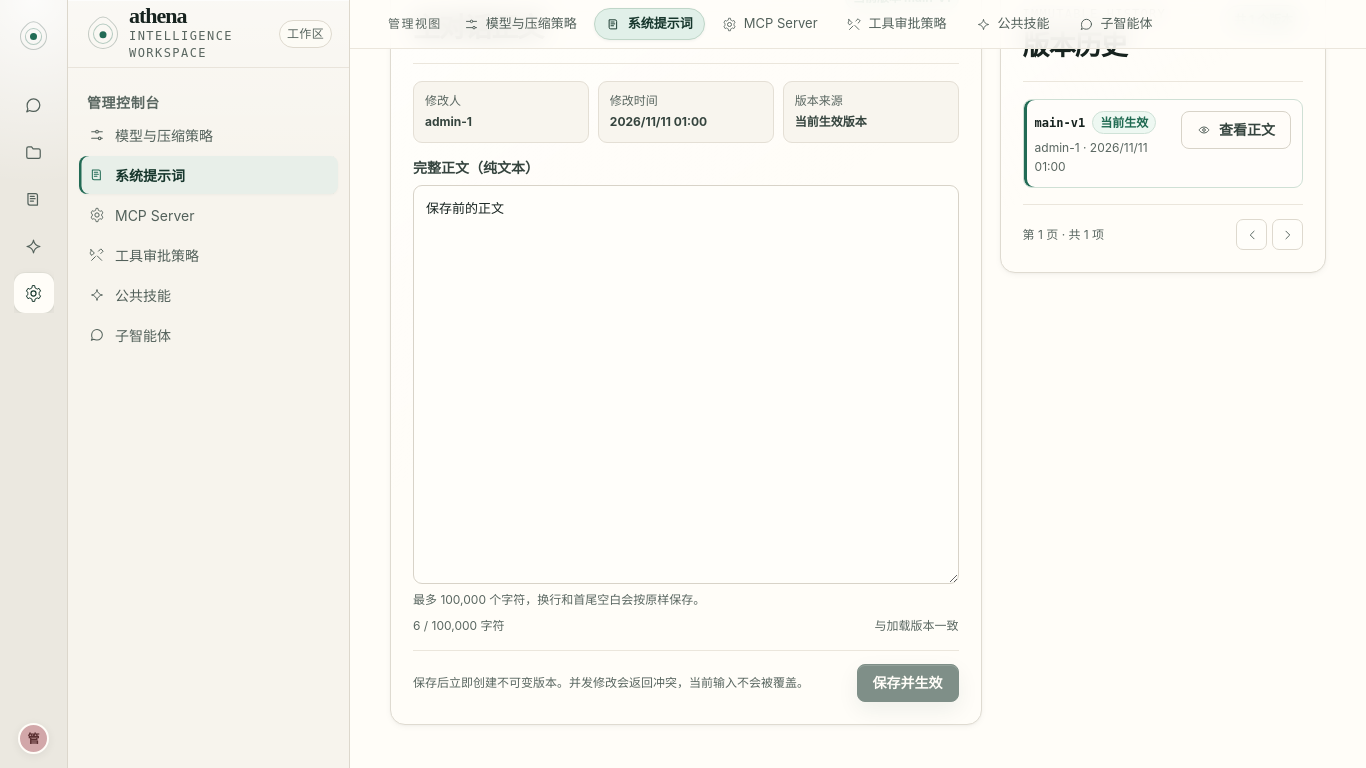
管理员系统提示词页 › 离开弹窗打开后保存成功，保持不可撤销的成功语义
Later steps or results of the test are not shown.
(page scrolled)
Replace the text in the text box labelled "完整正文（纯文本） 最多 100,000 个字符，换行和首尾空白会按原样保存。" with "延迟生效的正文" at {"x": 686, "y": 384}, box x1=413 y1=185 x2=959 y2=584
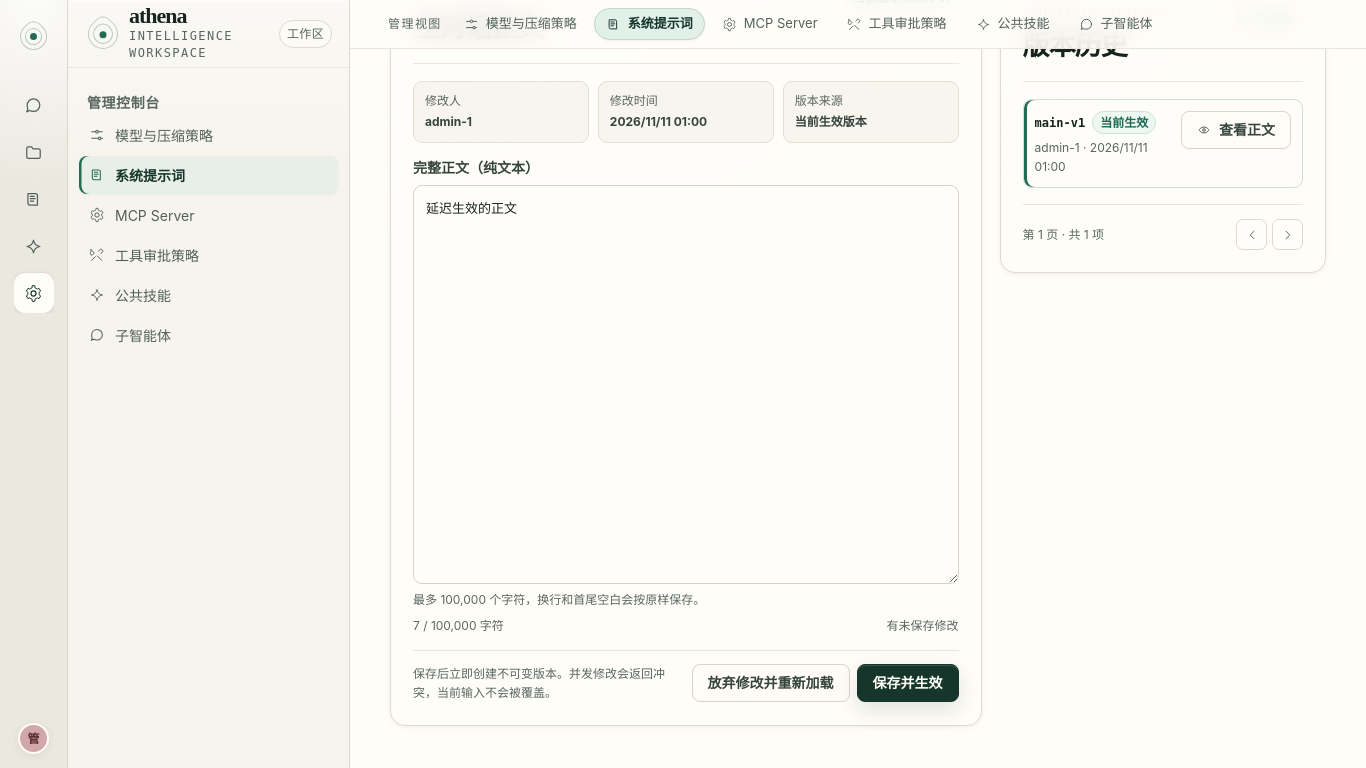
Click the button "保存并生效" at {"x": 908, "y": 684}, box x1=857 y1=664 x2=959 y2=702
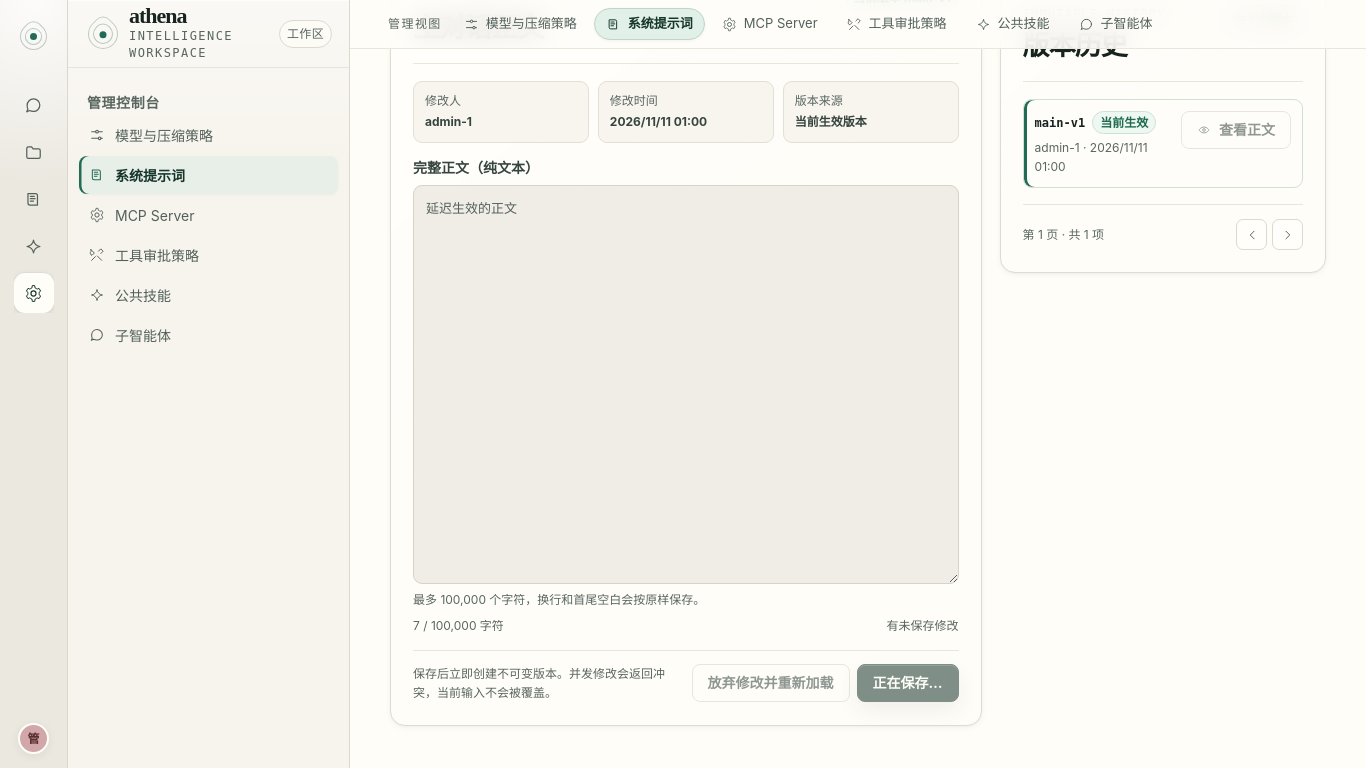
Result: the button "正在保存…" is disabled at x1=857 y1=664 x2=959 y2=702
Click the button named "账户菜单" at {"x": 34, "y": 738}, box x1=18 y1=723 x2=49 y2=754
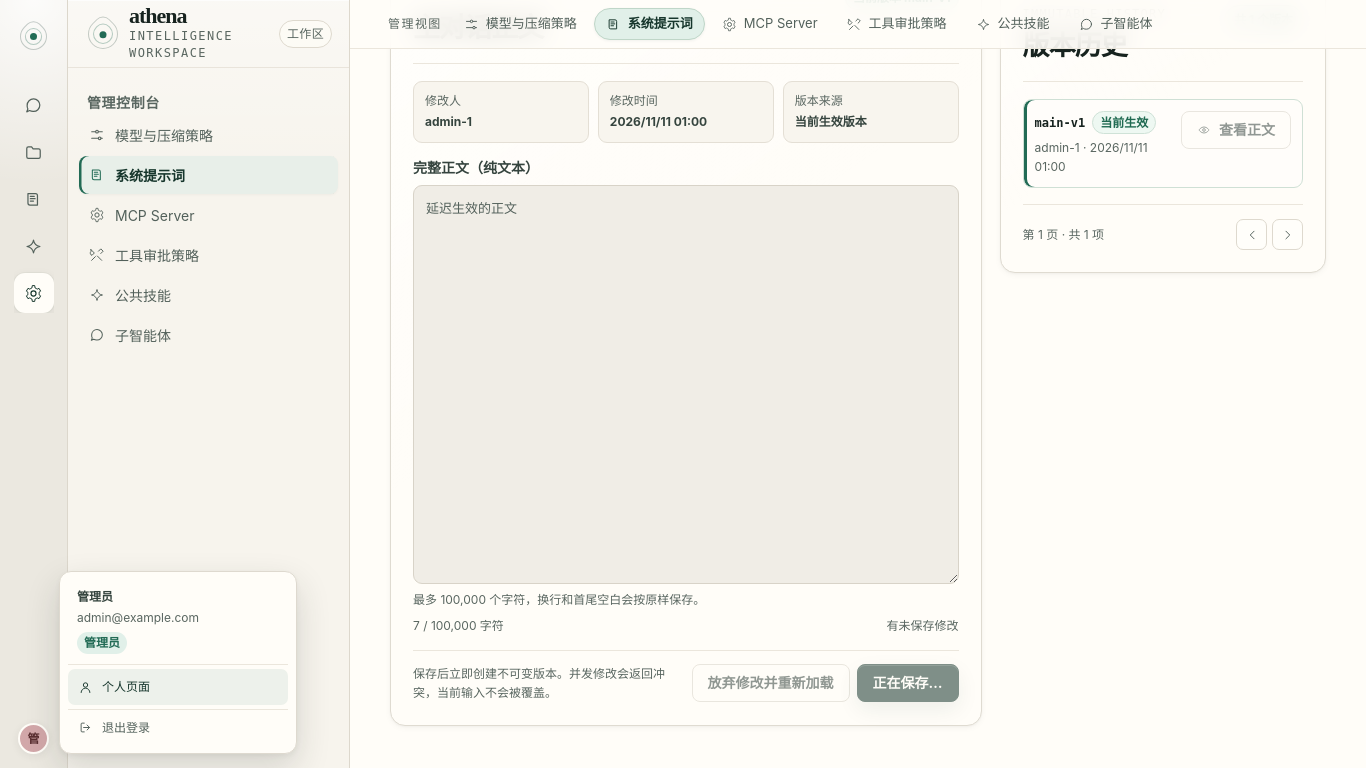
Click the menu item "个人页面" at {"x": 178, "y": 687}, box x1=68 y1=669 x2=288 y2=705
(page scrolled)
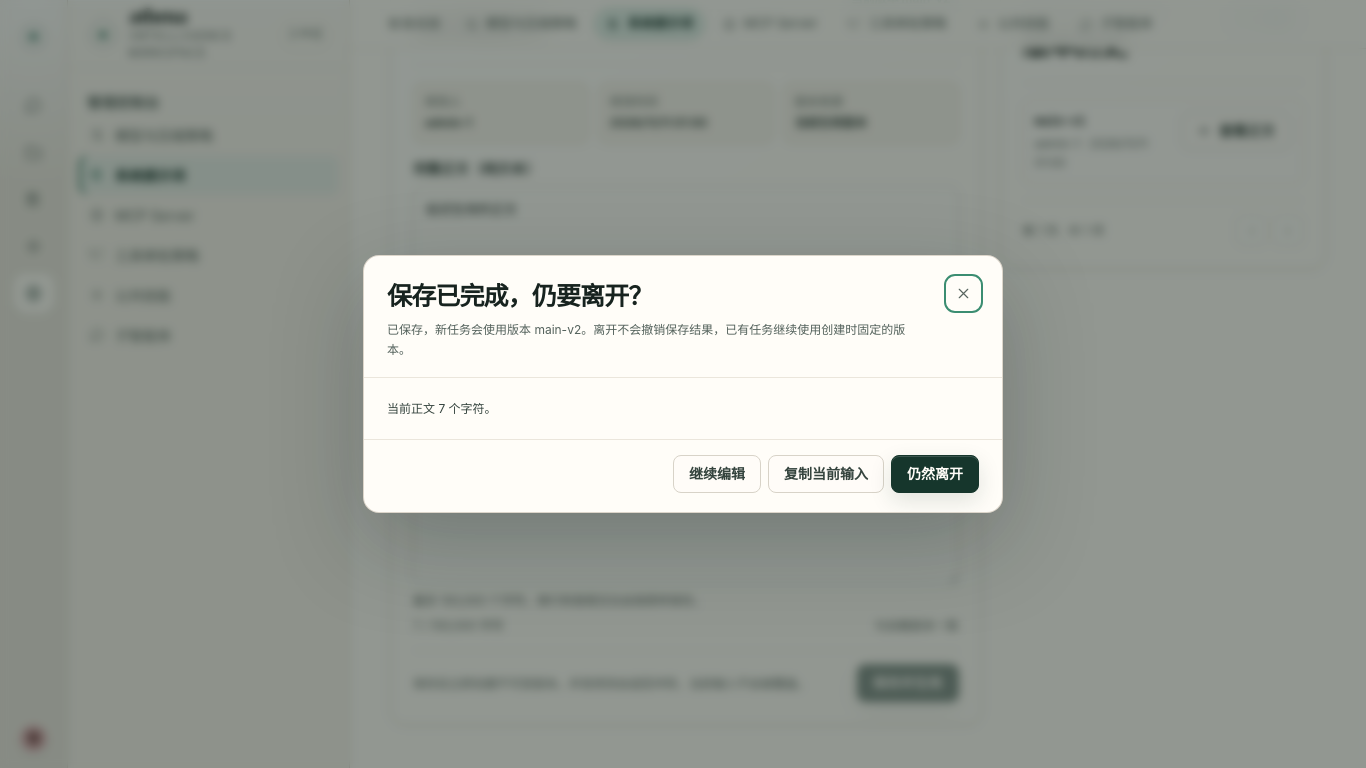
Result: the button named "留在此页" is shown at x1=673 y1=455 x2=761 y2=493
Result: the heading "保存已完成，仍要离开？" is shown at x1=387 y1=283 x2=652 y2=310
Click the button "仍然离开" at {"x": 935, "y": 474}, box x1=891 y1=455 x2=979 y2=493
(page scrolled)
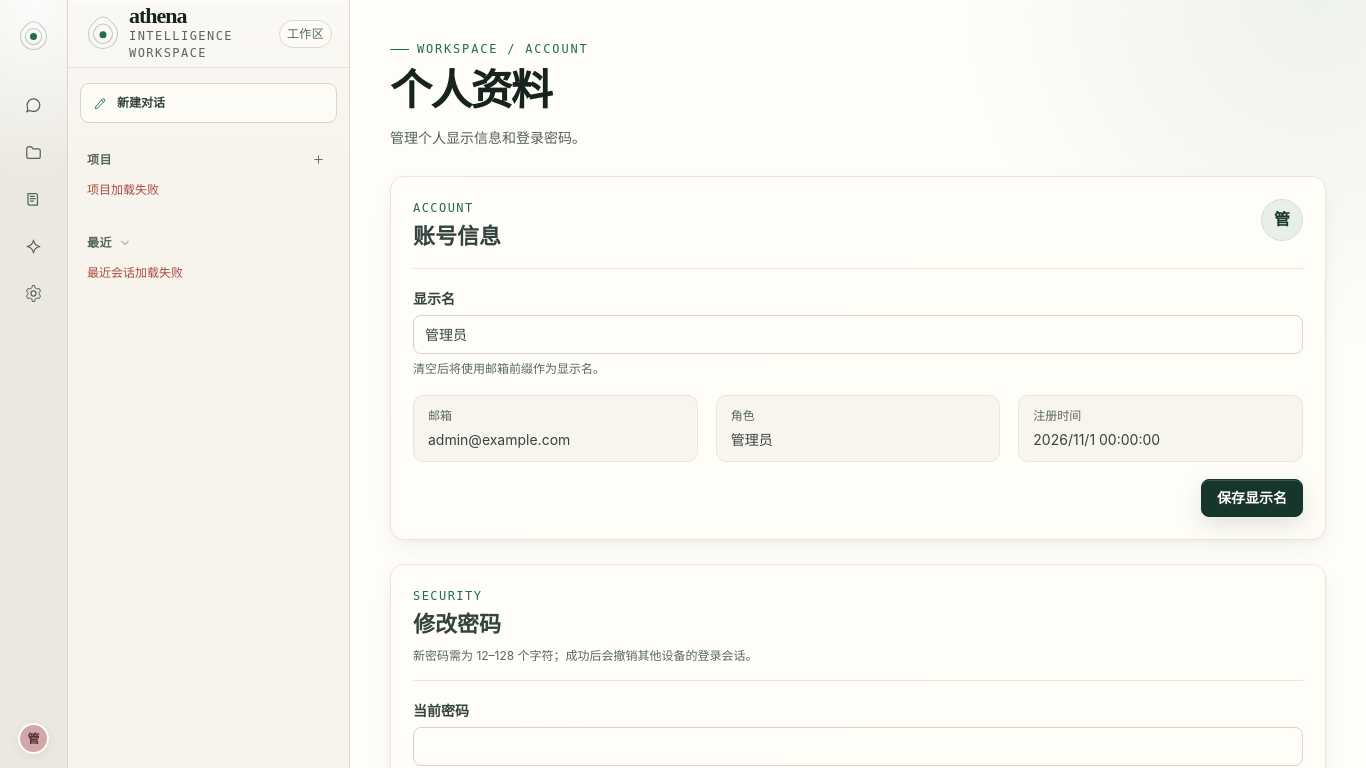
Result: the heading "个人资料" is shown at x1=390 y1=68 x2=551 y2=114
